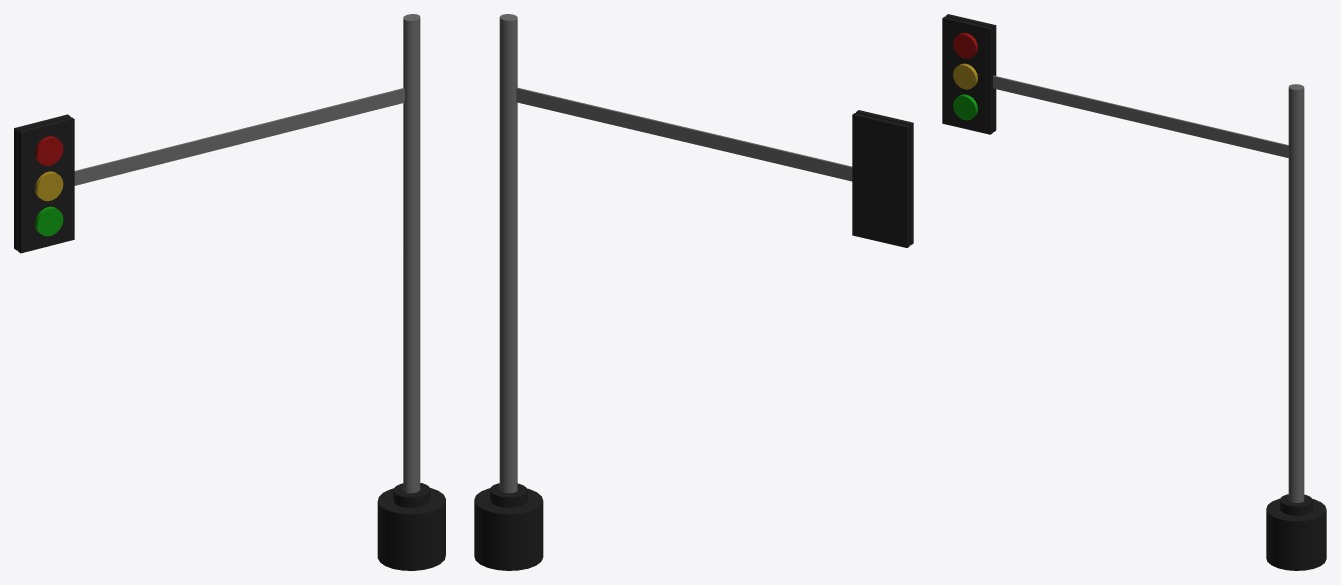
Rendered from Trafficlight_M_v1_Carrie.FBX.
The picture shows the model from 3 angles, left to right: view 1: azimuth 30°, elevation 25°; view 2: azimuth 150°, elevation 25°; view 3: azimuth 330°, elevation 25°; orthographic projection. The views are drawn at different scales.
Visible parts, largest first — view 1: trafficlight; view 2: trafficlight; view 3: trafficlight.
Part boxes in pixels (x1=…): trafficlight: x1=14, y1=14, x2=445, y2=570; trafficlight: x1=474, y1=14, x2=913, y2=570; trafficlight: x1=942, y1=14, x2=1326, y2=570.
Bounding box in the file's own units: 979 × 1179 × 132.
